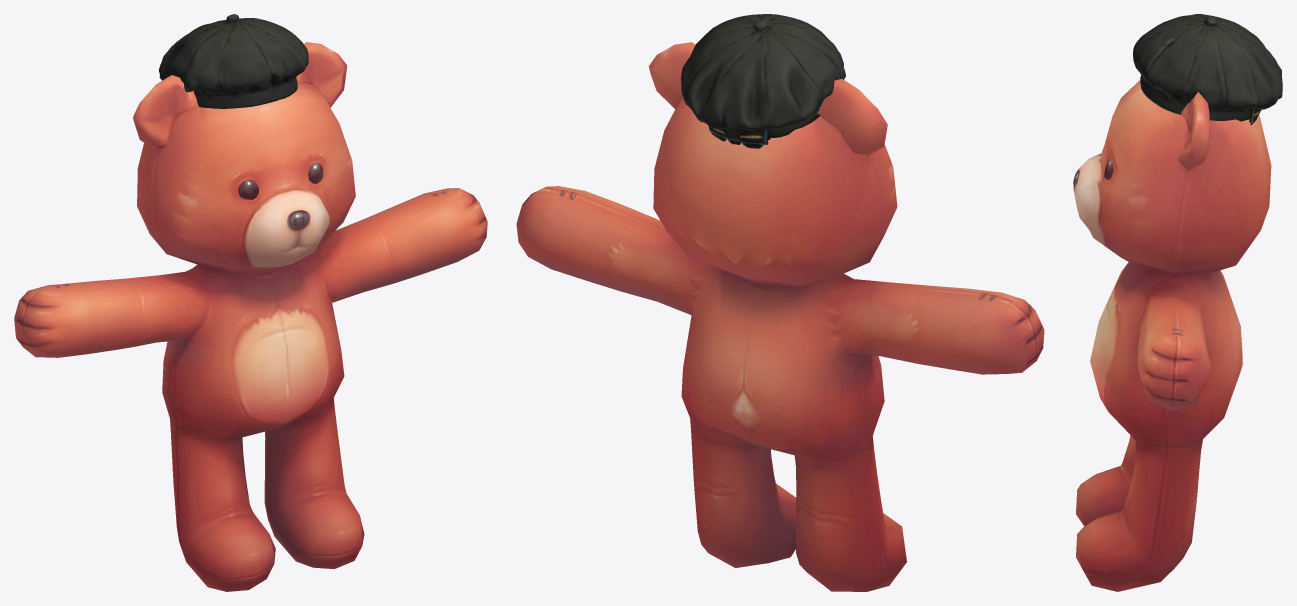
Rendered from OsitoFrances.glb.
3 views of the same model, side by side, from view 1: azimuth 30°, elevation 25°; view 2: azimuth 150°, elevation 25°; view 3: azimuth 270°, elevation 25° (orthographic). The views are drawn at different scales.
Parts seen in each view (by area): view 1: Osito, Object_4; view 2: Osito, Object_4; view 3: Osito, Object_4.
Part boxes in pixels (x1=…): Osito: x1=14, y1=42, x2=487, y2=591; Object_4: x1=158, y1=14, x2=308, y2=108; Osito: x1=516, y1=42, x2=1044, y2=591; Object_4: x1=681, y1=14, x2=845, y2=148; Osito: x1=1073, y1=80, x2=1271, y2=591; Object_4: x1=1133, y1=14, x2=1282, y2=124.
Size of the model in its own units: 2.11 by 2.33 by 0.8106.
Materials: 2 (2 with a texture image).
